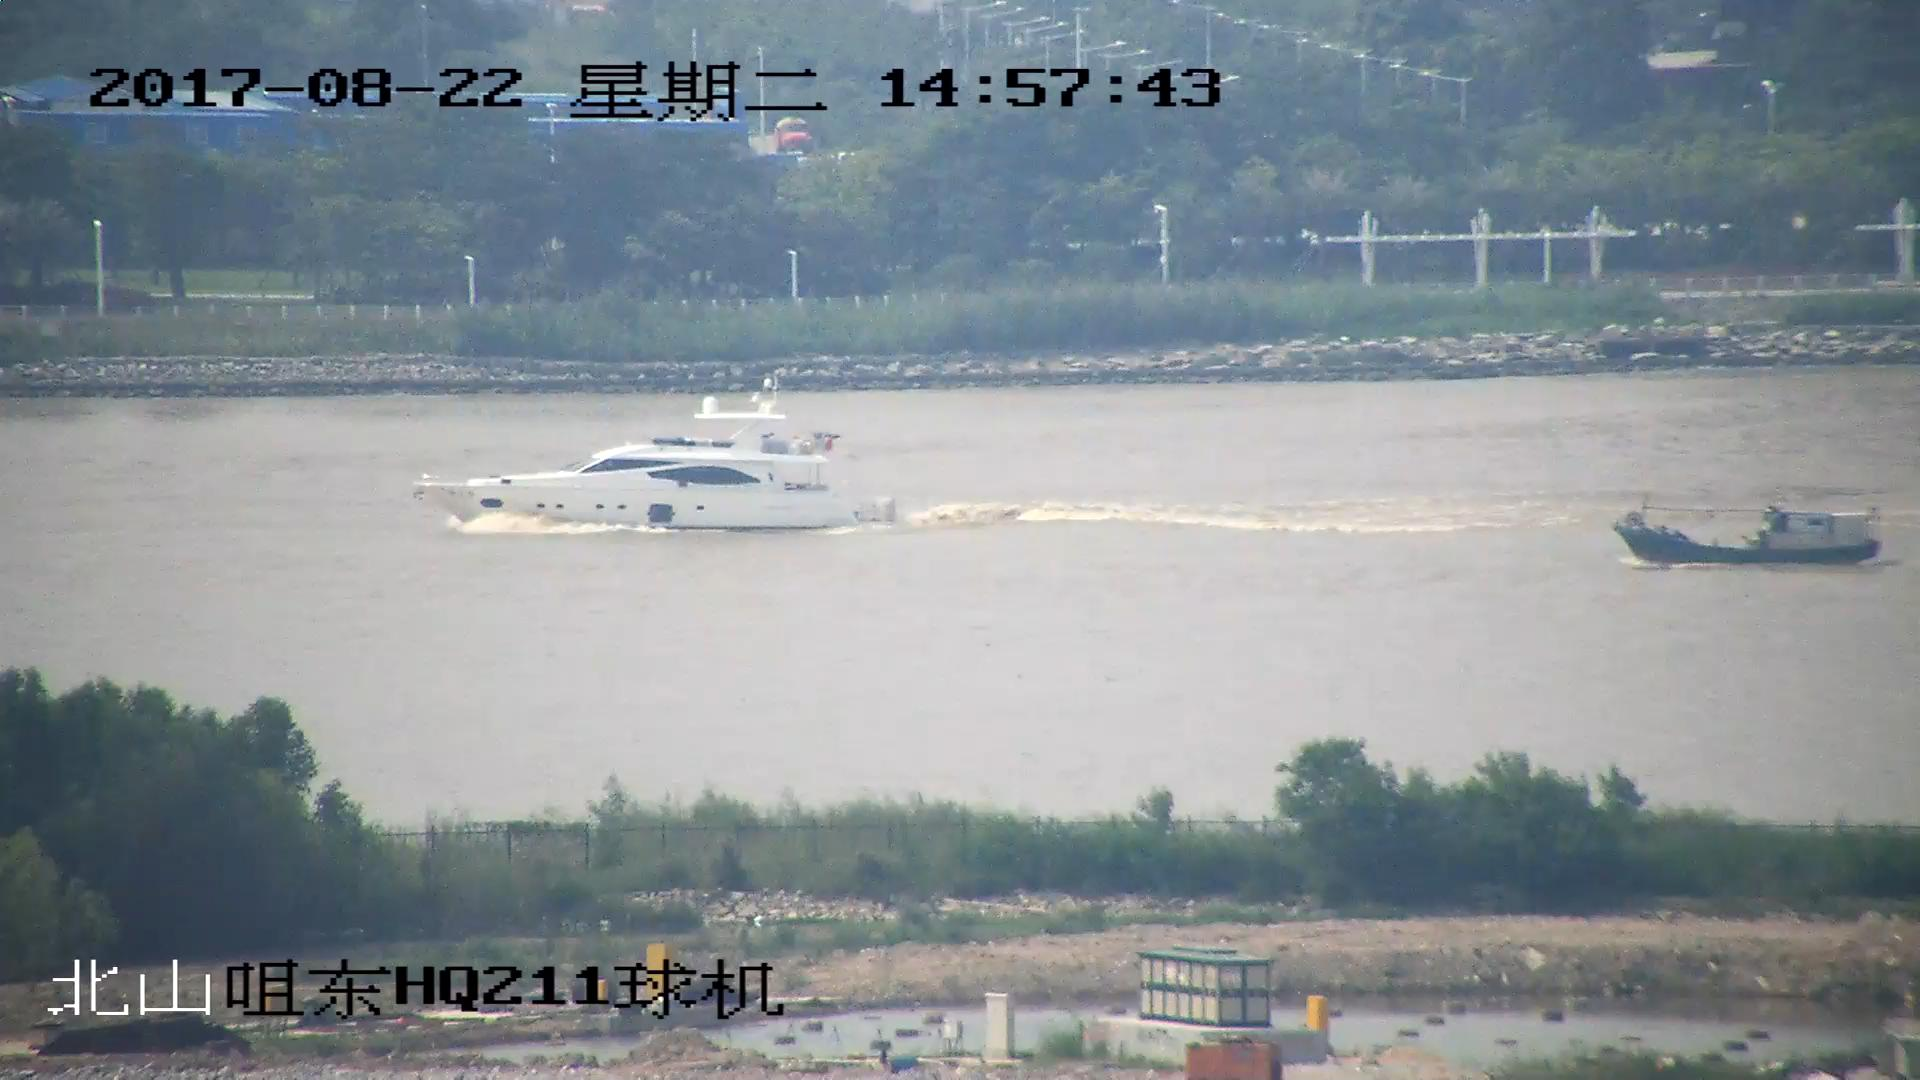fishing boat: (1616, 497, 1884, 569)
passenger ship: (418, 387, 876, 537)
